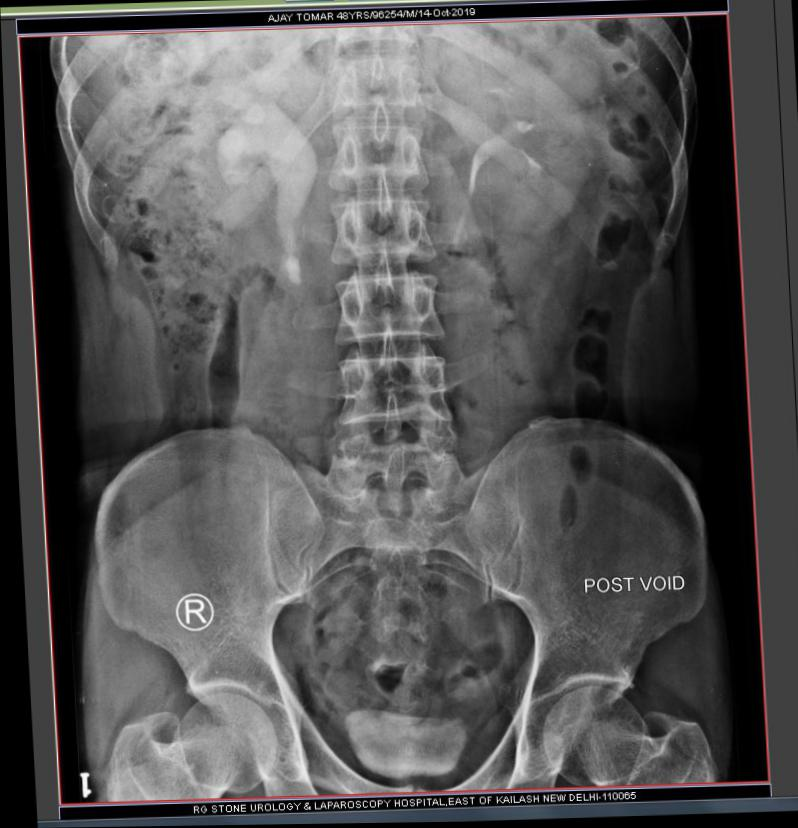bladder: (316, 671, 483, 795)
left kidney: (455, 59, 601, 250)
right kidney: (164, 38, 320, 243)
vertebrae: (322, 121, 435, 197)
